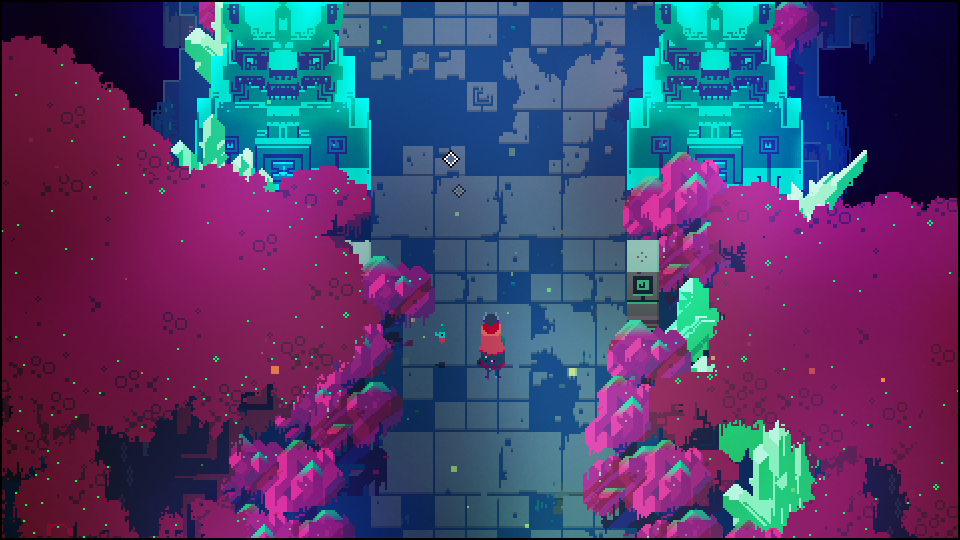player: (473, 312, 506, 369)
